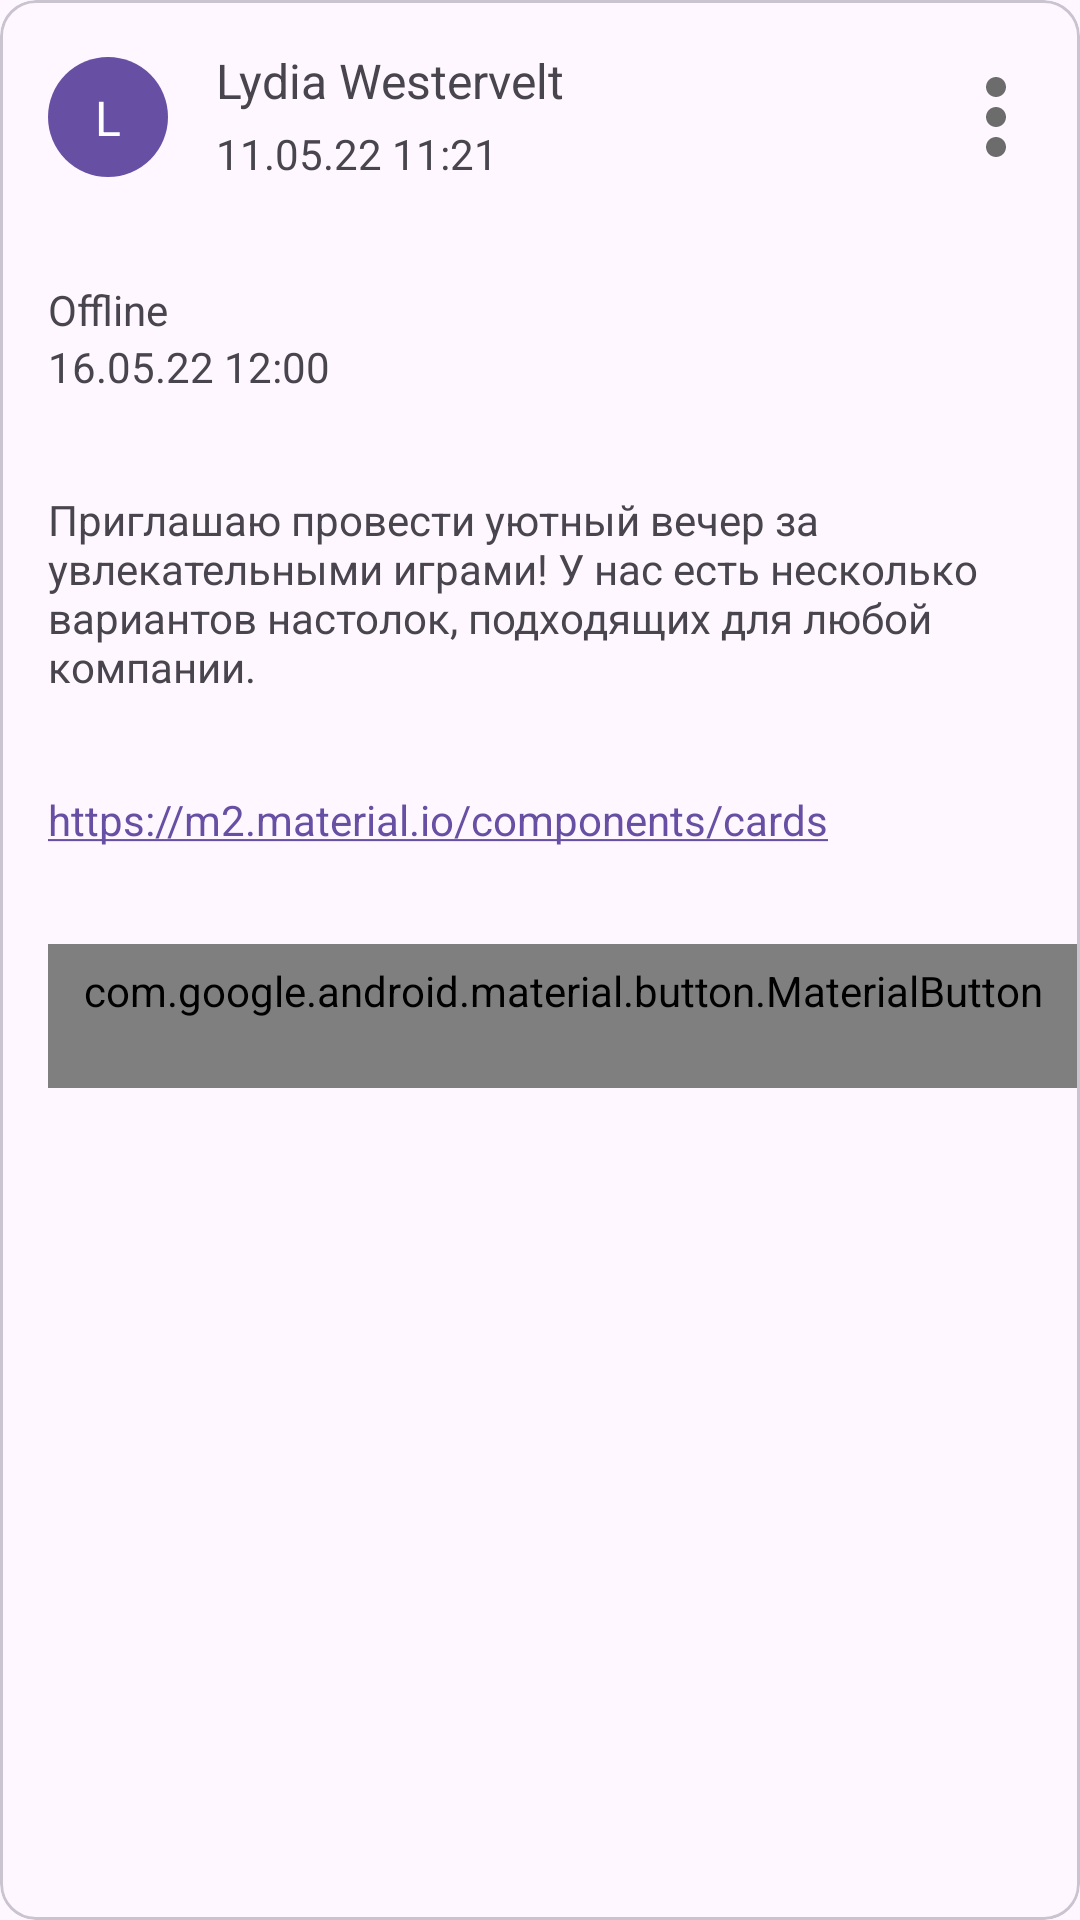

Where to tap for icons on this 1080px x 1920px app screen, as (x,y):
Меню: (996,117)
